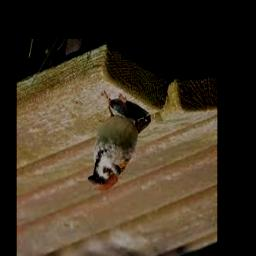Sparrow: (88, 92, 151, 190)
